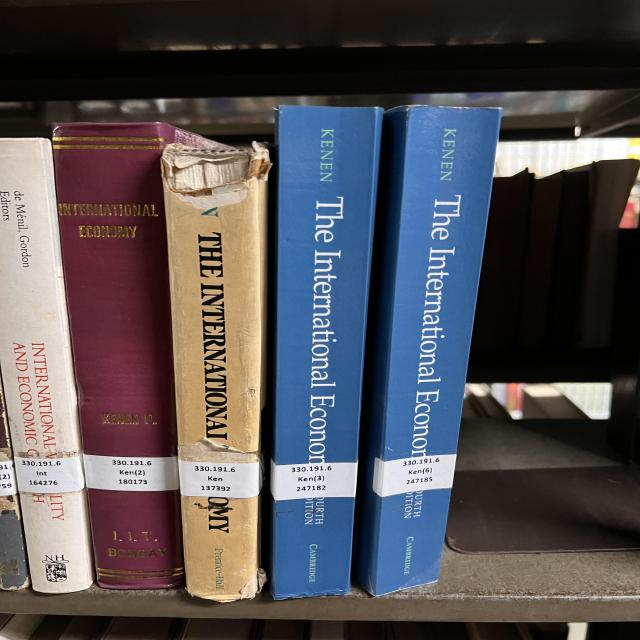Book: (52, 122, 232, 590), (355, 106, 500, 595), (270, 105, 383, 599), (162, 144, 272, 602), (0, 139, 93, 594)
Label: (372, 454, 457, 498), (83, 455, 180, 491), (272, 461, 358, 500), (178, 460, 260, 499), (13, 456, 85, 494)
